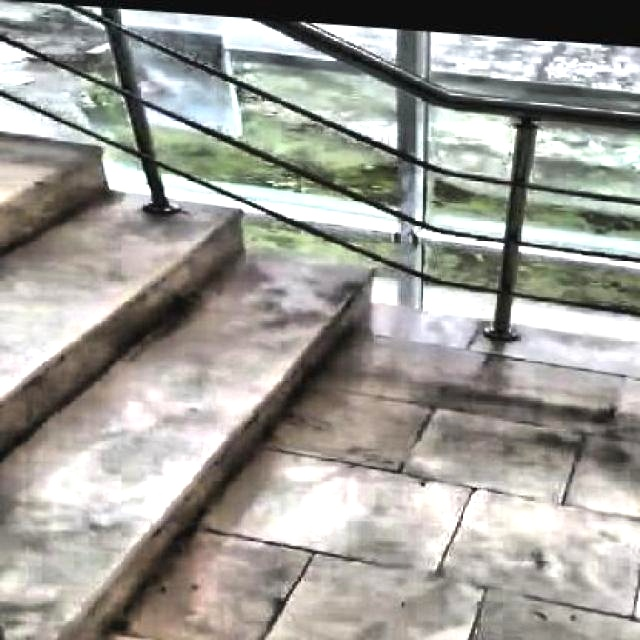stair: (0, 130, 366, 639)
